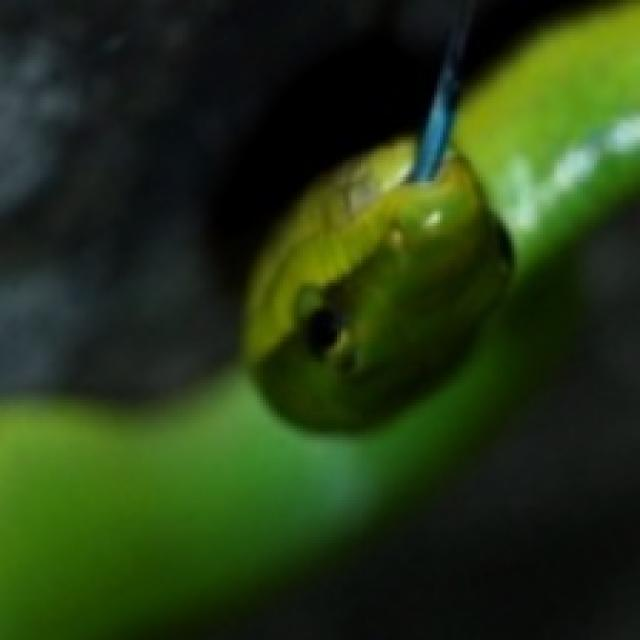red-tailed green ratsnake: (243, 3, 637, 426), (243, 23, 509, 426)
